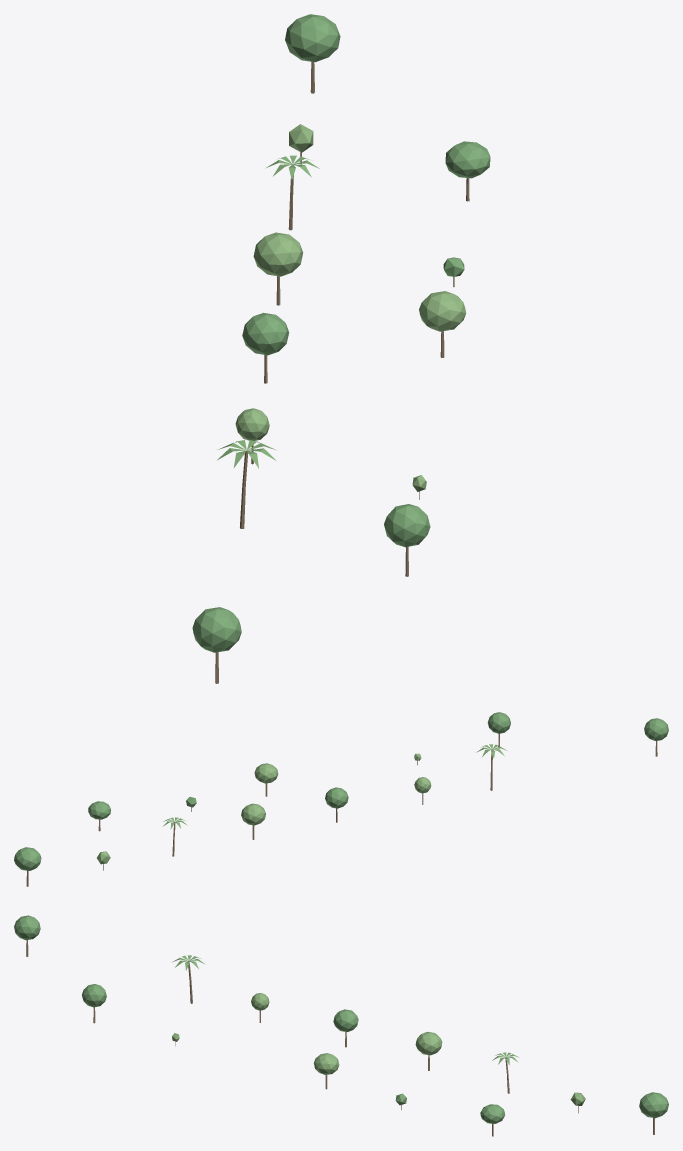
Rendered from nature_-4_-9.glb.
The picture shows the model from 3 angles, top to bottom: view 1: azimuth 30°, elevation 25°; view 2: azimuth 150°, elevation 25°; view 3: azimuth 270°, elevation 25°; orthographic projection. The views are drawn at different scales.
Parts seen in each view (by area): view 1: foliage_a, foliage_b, trunk, palm_leaf; view 2: foliage_a, foliage_b, trunk, palm_leaf; view 3: foliage_a, foliage_b, trunk, palm_leaf.
Boxes of the visible parts, bbox=[...] form: foliage_a: bbox=[192, 14, 490, 652]; foliage_b: bbox=[235, 124, 466, 491]; trunk: bbox=[215, 61, 469, 683]; palm_leaf: bbox=[217, 155, 319, 468]; foliage_a: bbox=[14, 712, 668, 870]; foliage_b: bbox=[97, 753, 431, 864]; trunk: bbox=[26, 733, 657, 886]; palm_leaf: bbox=[163, 744, 506, 829]; foliage_a: bbox=[14, 915, 668, 1123]; foliage_b: bbox=[172, 993, 585, 1105]; trunk: bbox=[26, 940, 654, 1136]; palm_leaf: bbox=[172, 955, 519, 1065].
Size of the model in its own units: 70.82 by 7.73 by 103.
